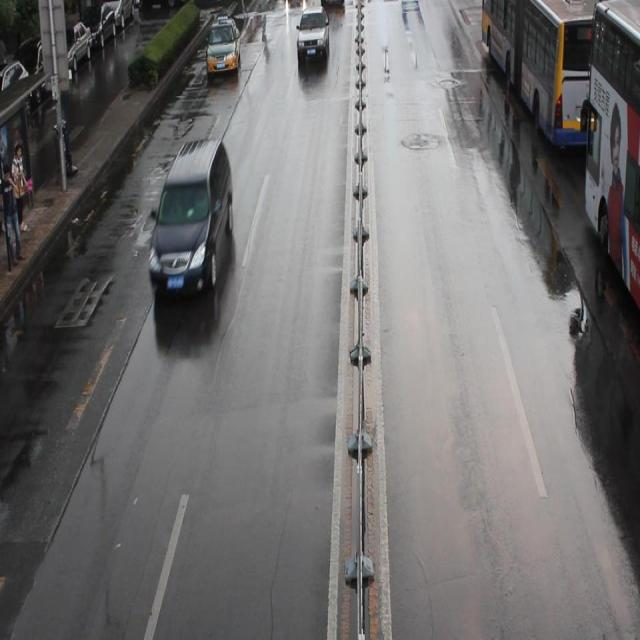car: (206, 15, 240, 77), (295, 8, 328, 64), (320, 1, 344, 11)
truck: (148, 138, 233, 299)
van: (480, 1, 612, 142), (583, 2, 640, 310)
